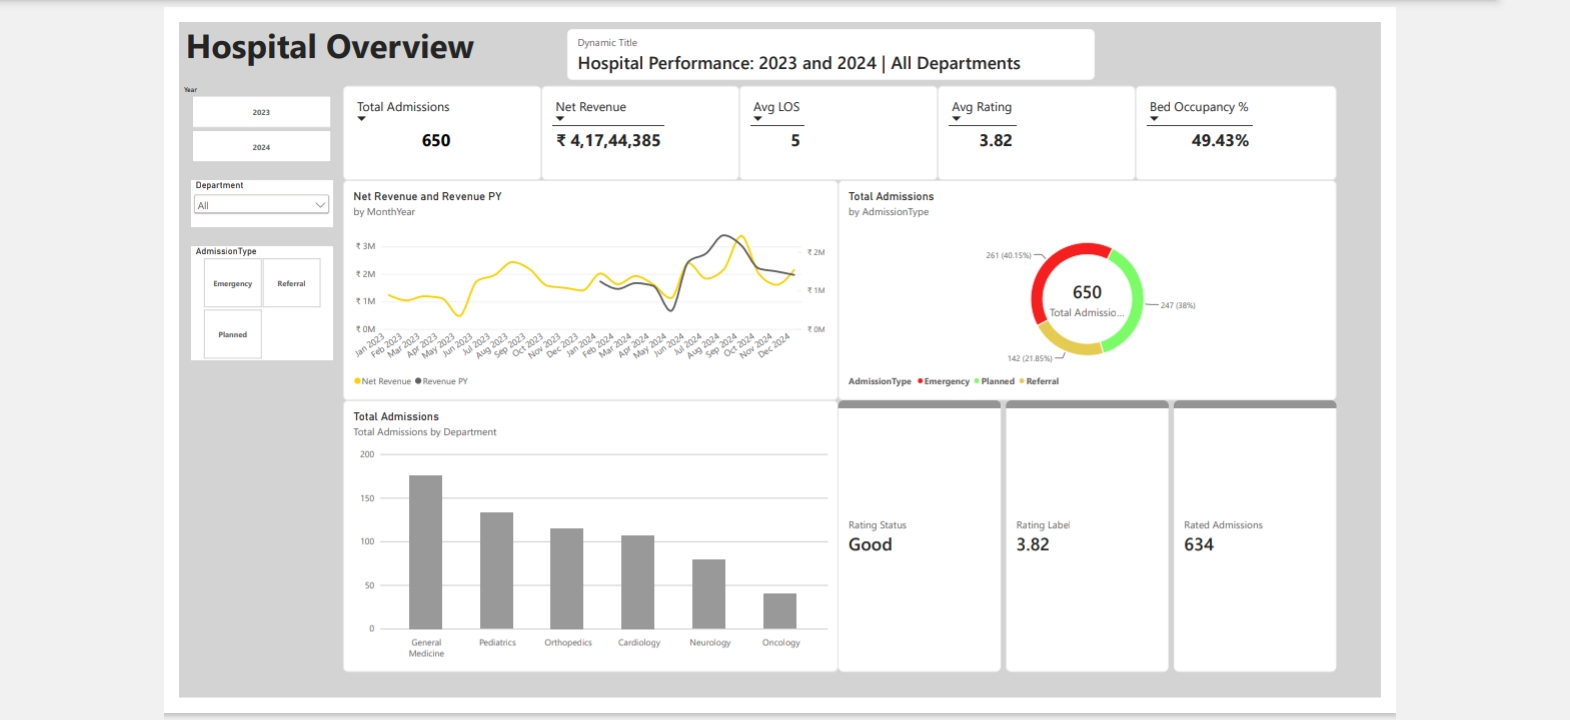

What the dashboard file says about the page in this screenshot:
{"tool":"powerbi","page":{"name":"Hospital Overview","canvas":[1920,1080],"ordinal":0},"visuals":[{"type":"textbox","box":[10.6,0,481.5,73.2],"z":0},{"type":"cardVisual","fields":{"Data":["_Measures.Dynamic Title"]},"box":[619.8,10.6,843.3,82.5],"z":1000},{"type":"slicer","fields":{"Values":["DimDate.Year"]},"box":[0,102.4,262,123.7],"z":2000},{"type":"slicer","fields":{"Values":["DimDepartment.Department"]},"box":[18.6,252.7,226.1,74.5],"z":3000},{"type":"slicer","fields":{"Values":["DimAdmissionType.AdmissionType"]},"box":[18.6,357.8,226.1,182.2],"z":4000},{"type":"tableEx","fields":{"Values":["_Measures.Total Admissions"]},"box":[262,102.4,316.6,150.3],"z":5000},{"type":"tableEx","fields":{"Values":["_Measures.Net Revenue"]},"box":[578.6,102.4,316.6,150.3],"z":6000},{"type":"tableEx","fields":{"Values":["_Measures.Avg LOS"]},"box":[895.1,102.4,316.6,150.3],"z":7000},{"type":"tableEx","fields":{"Values":["_Measures.Avg Rating"]},"box":[1211.7,102.4,316.6,150.3],"z":8000},{"type":"tableEx","fields":{"Values":["_Measures.Bed Occupancy %"]},"box":[1528.2,102.4,320.5,150.3],"z":9000},{"type":"lineChart","fields":{"Category":["DimDate.MonthYear"],"Y":["_Measures.Net Revenue"],"Y2":["_Measures.Revenue PY"]},"box":[262,252.7,791.4,352.5],"z":10000},{"type":"clusteredColumnChart","title":"Total Admissions","fields":{"Category":["DimDepartment.Department"],"Y":["_Measures.Total Admissions"]},"box":[262,605.2,791.4,433.6],"z":11000},{"type":"donutChart","fields":{"Category":["DimAdmissionType.AdmissionType"],"Y":["_Measures.Total Admissions"]},"box":[1053.4,252.7,795.4,352.5],"z":12000},{"type":"cardVisual","fields":{"Data":["_Measures.Rating Status","_Measures.Rating Label","_Measures.Rated Admissions"]},"box":[1053.4,605.2,795.4,433.6],"z":13000}]}

Visuals, with their boxes on the page's 1920x1080 design canvas (x1, y1, x2, y2). These are canvas units, not pixel positions in the 1570x720 screenshot, which may show the page scaled, cropped or inside an application window:
textbox: x1=11 y1=0 x2=492 y2=73
cardVisual - _Measures.Dynamic Title: x1=620 y1=11 x2=1463 y2=93
slicer - DimDate.Year: x1=0 y1=102 x2=262 y2=226
slicer - DimDepartment.Department: x1=19 y1=253 x2=245 y2=327
slicer - DimAdmissionType.AdmissionType: x1=19 y1=358 x2=245 y2=540
tableEx - _Measures.Total Admissions: x1=262 y1=102 x2=579 y2=253
tableEx - _Measures.Net Revenue: x1=579 y1=102 x2=895 y2=253
tableEx - _Measures.Avg LOS: x1=895 y1=102 x2=1212 y2=253
tableEx - _Measures.Avg Rating: x1=1212 y1=102 x2=1528 y2=253
tableEx - _Measures.Bed Occupancy %: x1=1528 y1=102 x2=1849 y2=253
lineChart - DimDate.MonthYear x _Measures.Net Revenue: x1=262 y1=253 x2=1053 y2=605
"Total Admissions" clusteredColumnChart: x1=262 y1=605 x2=1053 y2=1039
donutChart - DimAdmissionType.AdmissionType x _Measures.Total Admissions: x1=1053 y1=253 x2=1849 y2=605
cardVisual - _Measures.Rating Status x _Measures.Rating Label: x1=1053 y1=605 x2=1849 y2=1039
